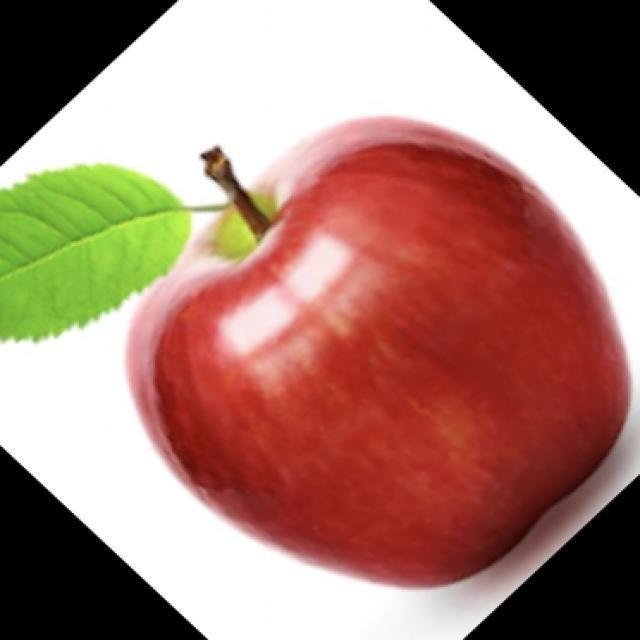Fresh Apple: (126, 106, 640, 589)
